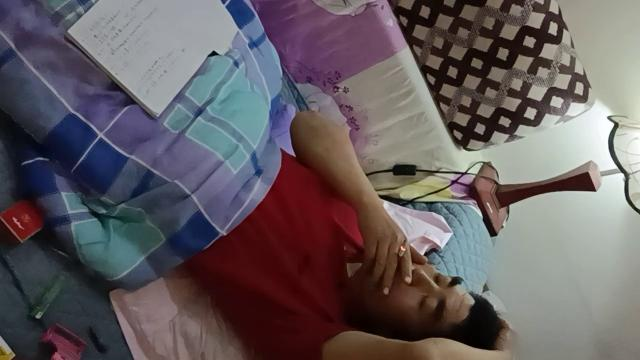Cigarette: (396, 240, 408, 262)
